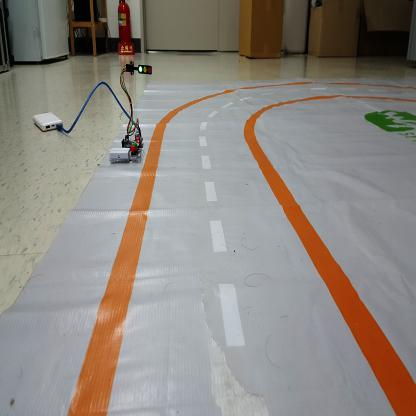traffic-light: (137, 63, 152, 75)
